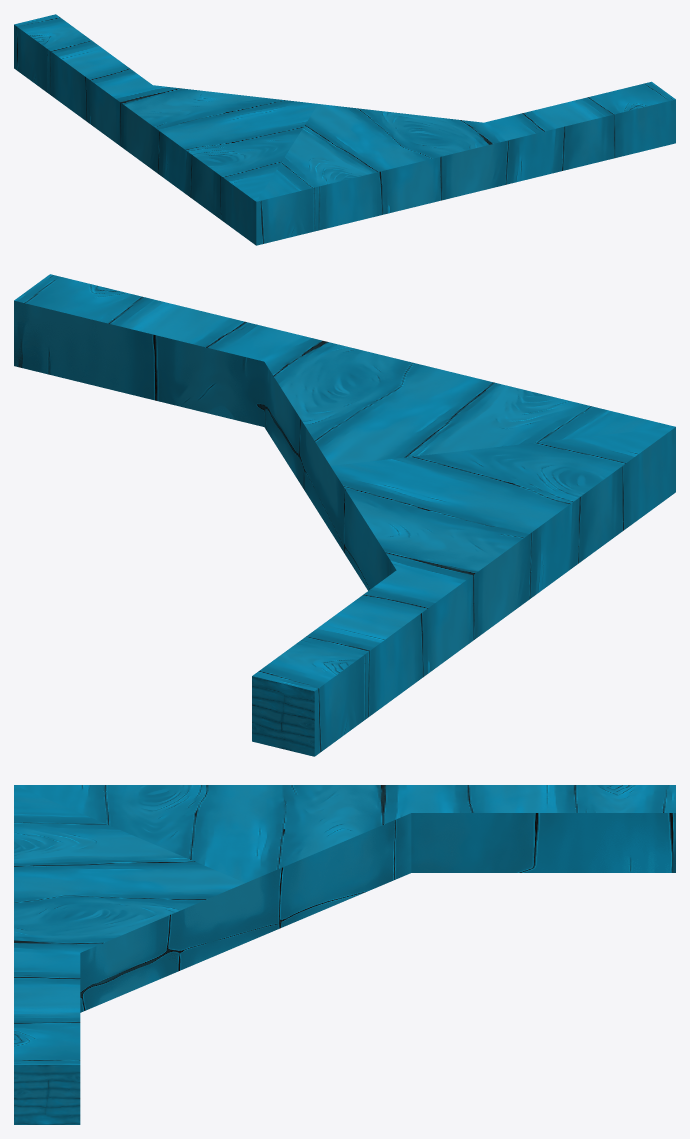
File: M_Tile_Wall_Corner_1.fbx
3 renders of one model, top to bottom at view 1: azimuth 30°, elevation 25°; view 2: azimuth 150°, elevation 25°; view 3: azimuth 270°, elevation 25°, orthographic. The views are drawn at different scales.
Parts seen in each view (by area): view 1: Tile_Wall_Corner_1; view 2: Tile_Wall_Corner_1; view 3: Tile_Wall_Corner_1.
Boxes of the visible parts, x1=… form: Tile_Wall_Corner_1: x1=14, y1=14, x2=675, y2=245; Tile_Wall_Corner_1: x1=14, y1=274, x2=675, y2=756; Tile_Wall_Corner_1: x1=14, y1=785, x2=675, y2=1124.
Size of the model in its own units: 100 by 10 by 100.
